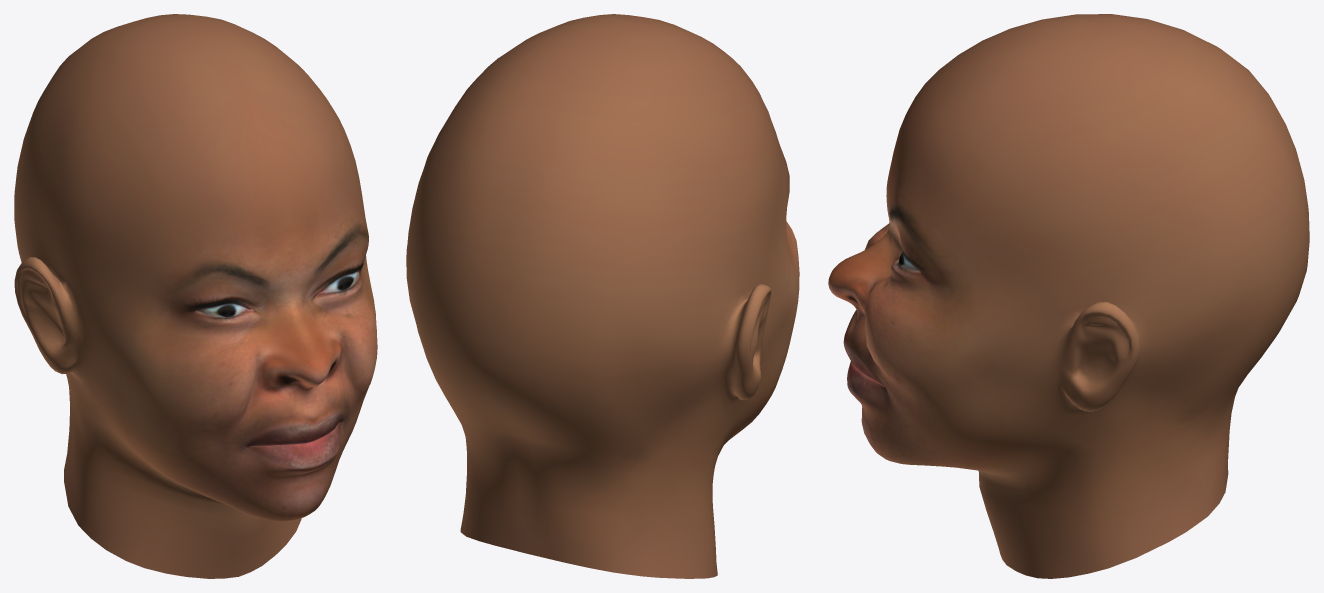
File: v332_obj_ExpressionDisgust.obj
The picture shows the model from 3 angles, left to right: view 1: azimuth 30°, elevation 25°; view 2: azimuth 150°, elevation 25°; view 3: azimuth 270°, elevation 25°; orthographic projection. The views are drawn at different scales.
Parts seen in each view (by area): view 1: HeadHires; view 2: HeadHires; view 3: HeadHires.
Boxes of the visible parts, x1,y1,x2,y2 form: HeadHires: [14, 14, 377, 578]; HeadHires: [406, 14, 799, 578]; HeadHires: [828, 14, 1309, 578].
Bounding box in the file's own units: 187 × 282 × 234.
